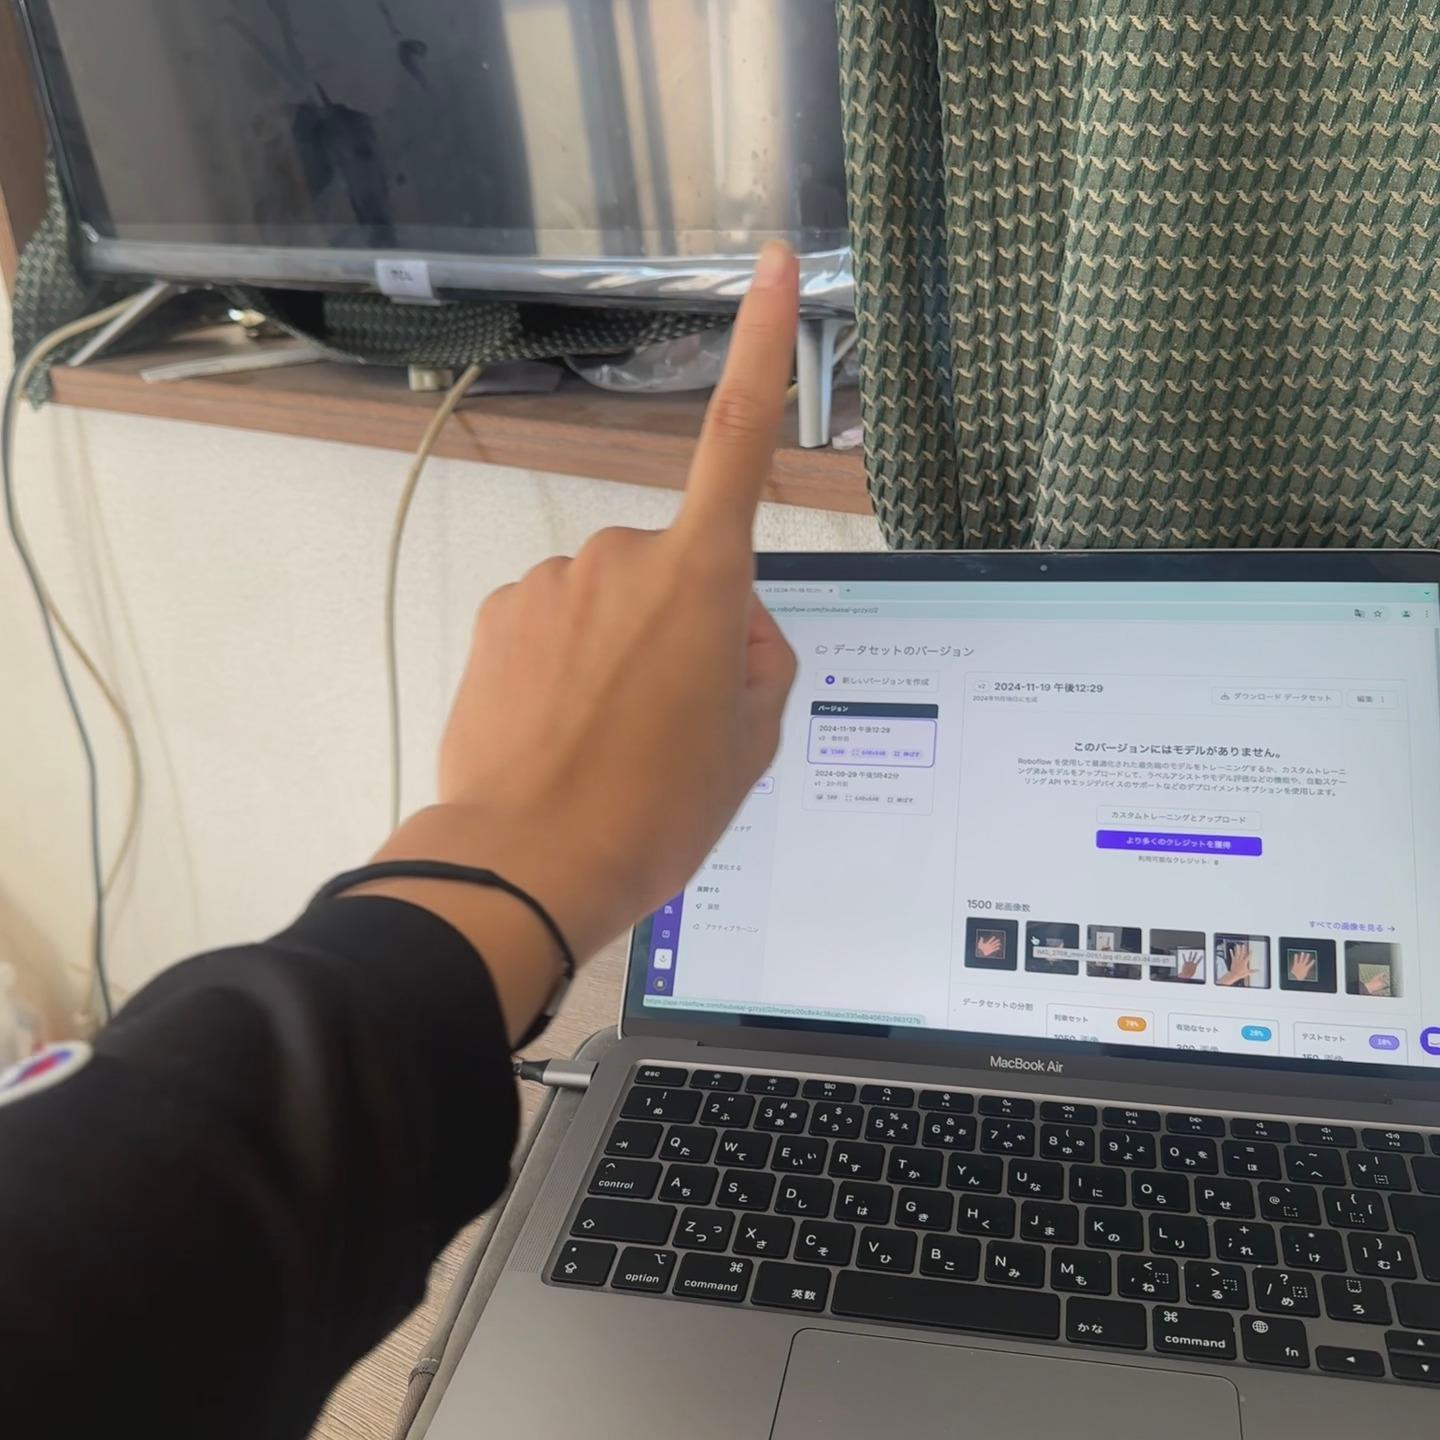without_gloves: (385, 91, 1080, 927)
